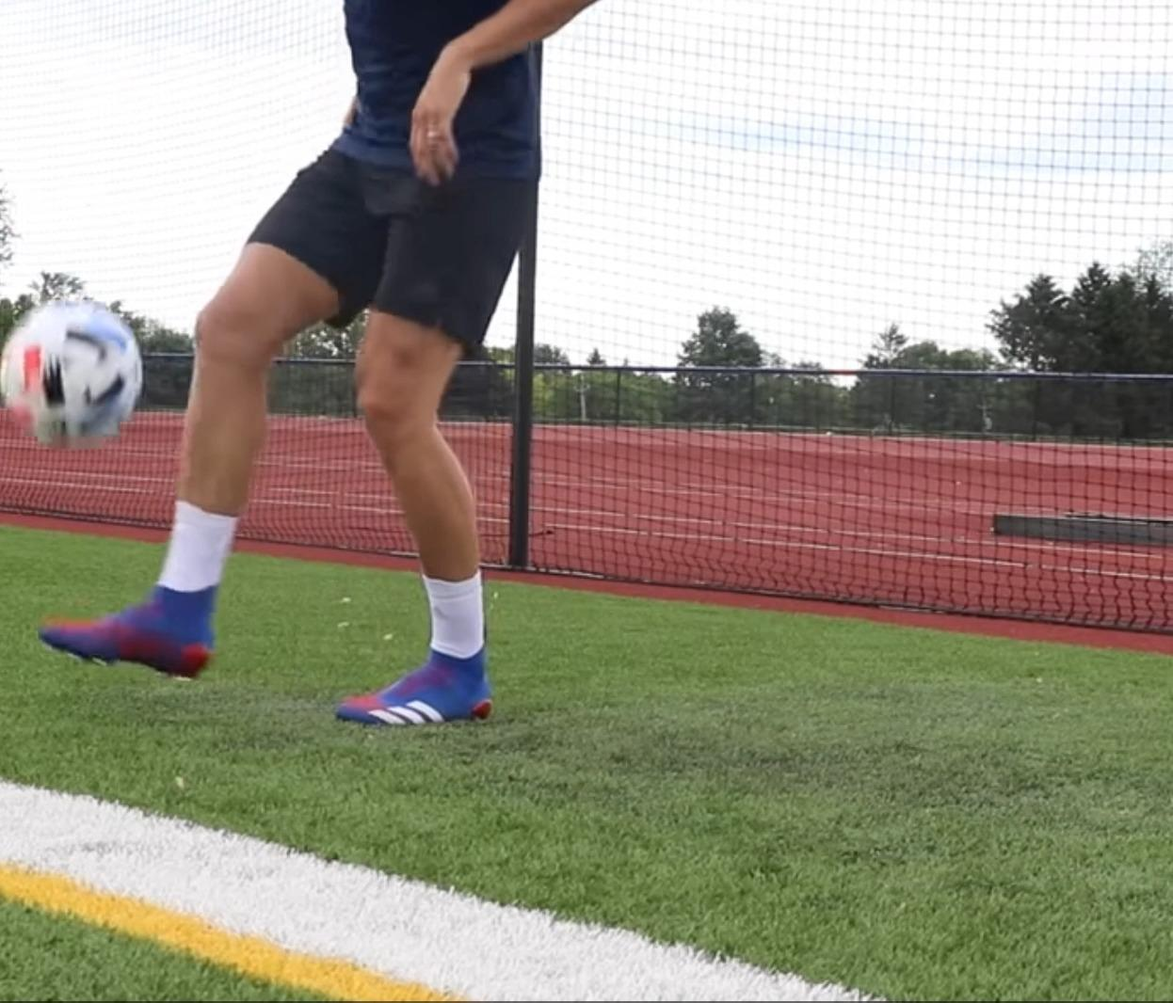ball: (0, 302, 142, 447)
foot: (35, 587, 226, 681), (330, 640, 495, 733)
person: (36, 0, 584, 728)
